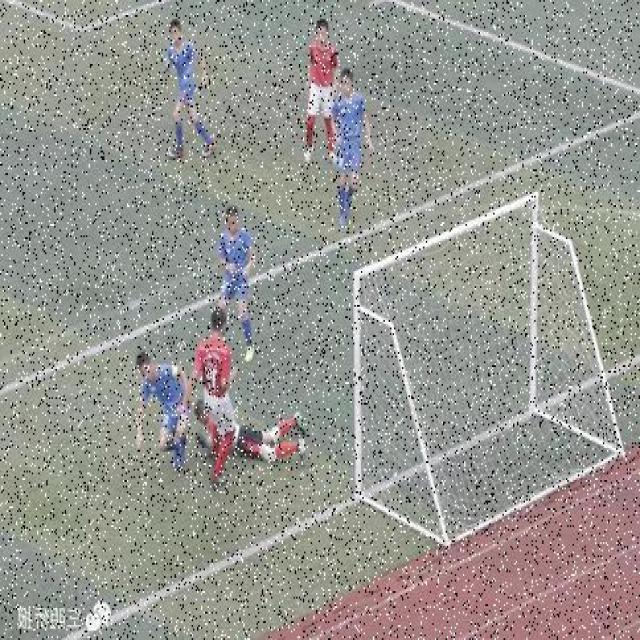fall: (194, 395, 310, 467)
